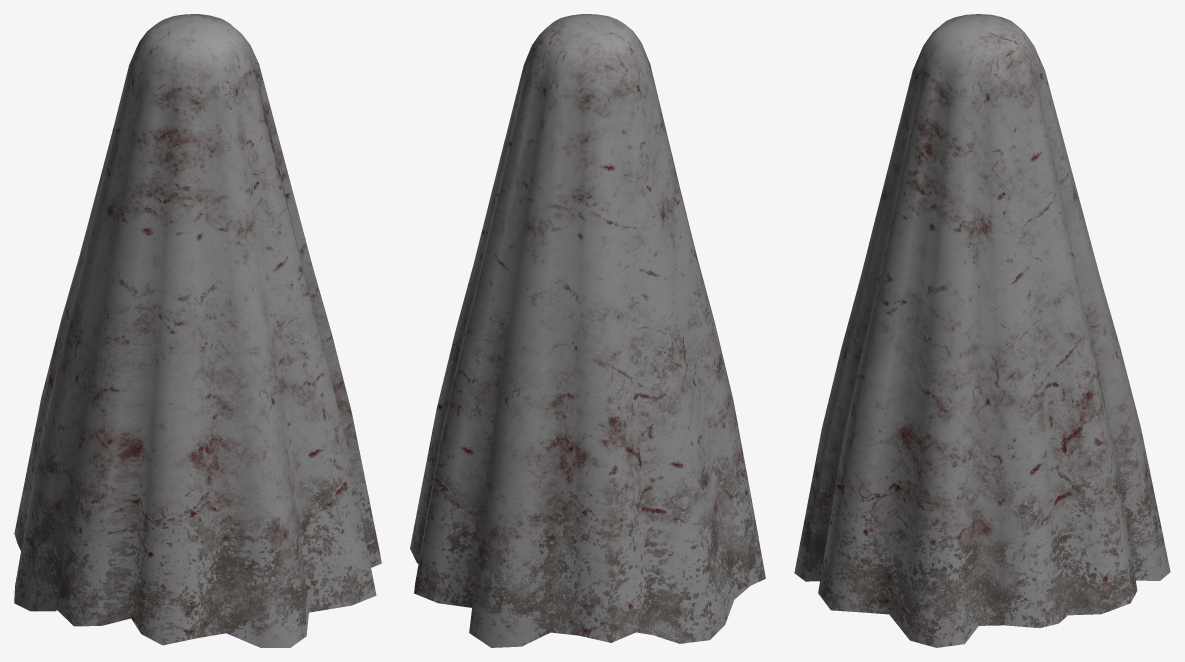
File: ghost.obj
3 renders of one model, left to right at view 1: azimuth 30°, elevation 25°; view 2: azimuth 150°, elevation 25°; view 3: azimuth 270°, elevation 25°, orthographic.
Parts seen in each view (by area): view 1: pCylinder1_ghost_0; view 2: pCylinder1_ghost_0; view 3: pCylinder1_ghost_0.
Part boxes in pixels (<box>): pCylinder1_ghost_0: <box>14,14,381,647</box>; pCylinder1_ghost_0: <box>410,14,765,647</box>; pCylinder1_ghost_0: <box>794,14,1170,647</box>.
Bounding box in the file's own units: 8.07 × 13.78 × 8.44.
